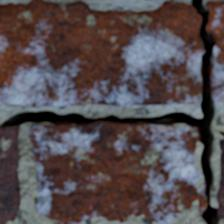brick: (28, 122, 205, 223), (0, 127, 19, 223), (217, 139, 223, 218)
broken_brick: (0, 0, 203, 107), (205, 0, 223, 104)
crack: (0, 0, 221, 223)
